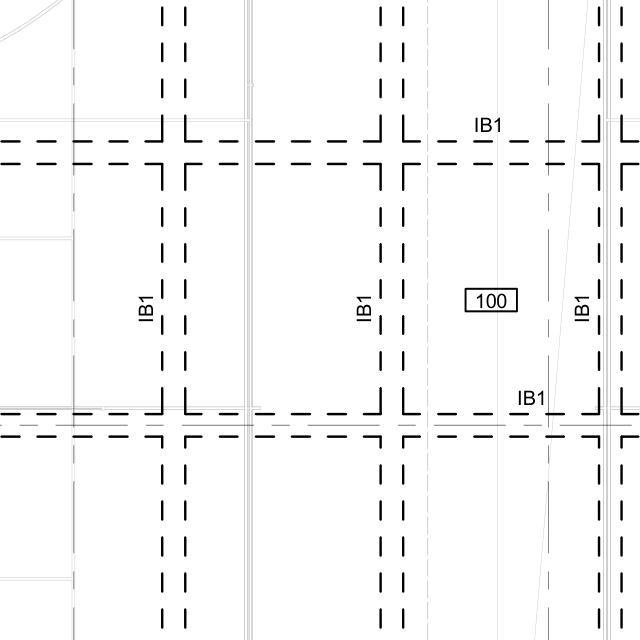IB1: (464, 105, 515, 139), (345, 290, 381, 338), (125, 285, 160, 327), (515, 377, 552, 411), (562, 285, 593, 324)
